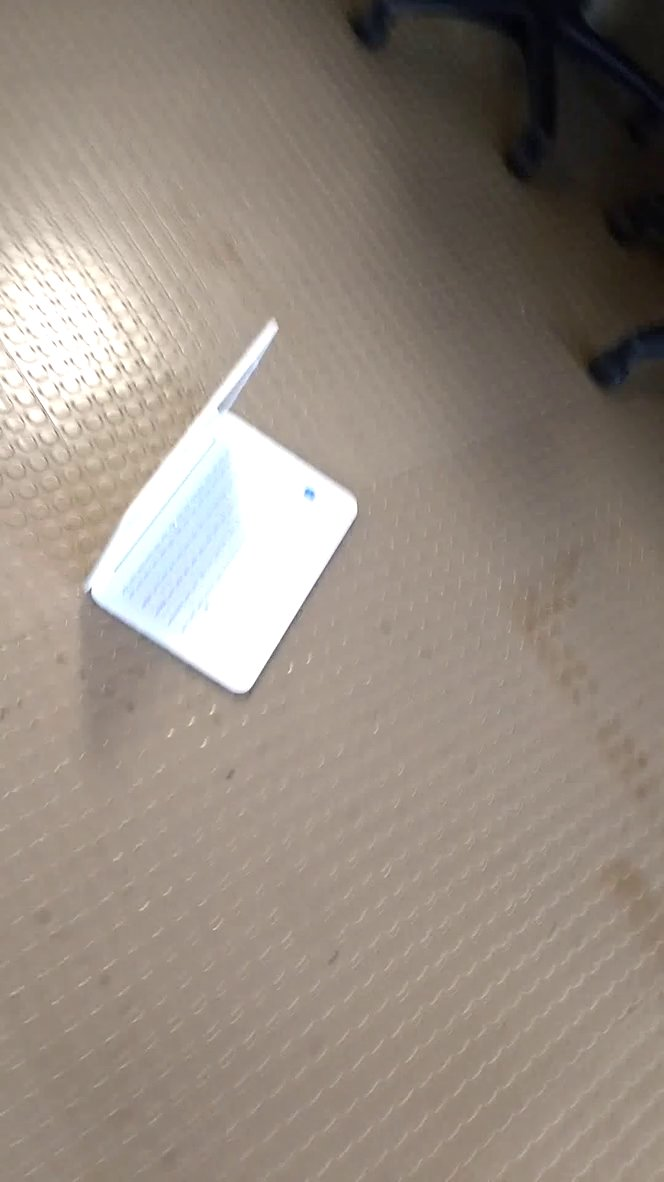laptop: (73, 308, 368, 703)
